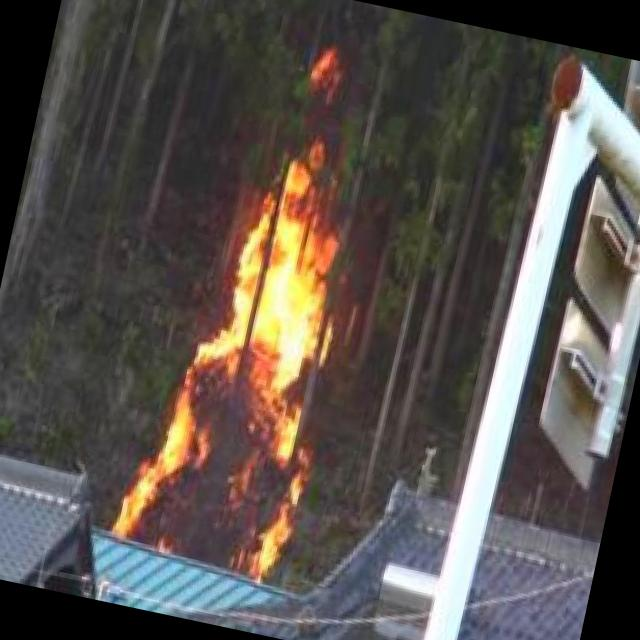Fire: (109, 127, 378, 591)
